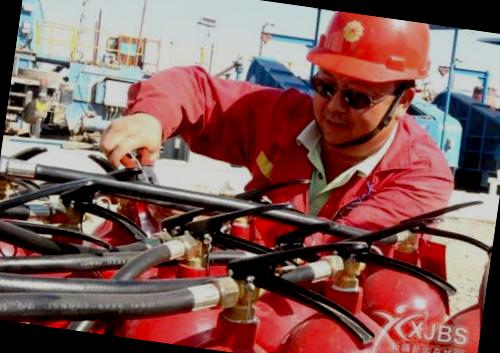person: (89, 0, 478, 262)
